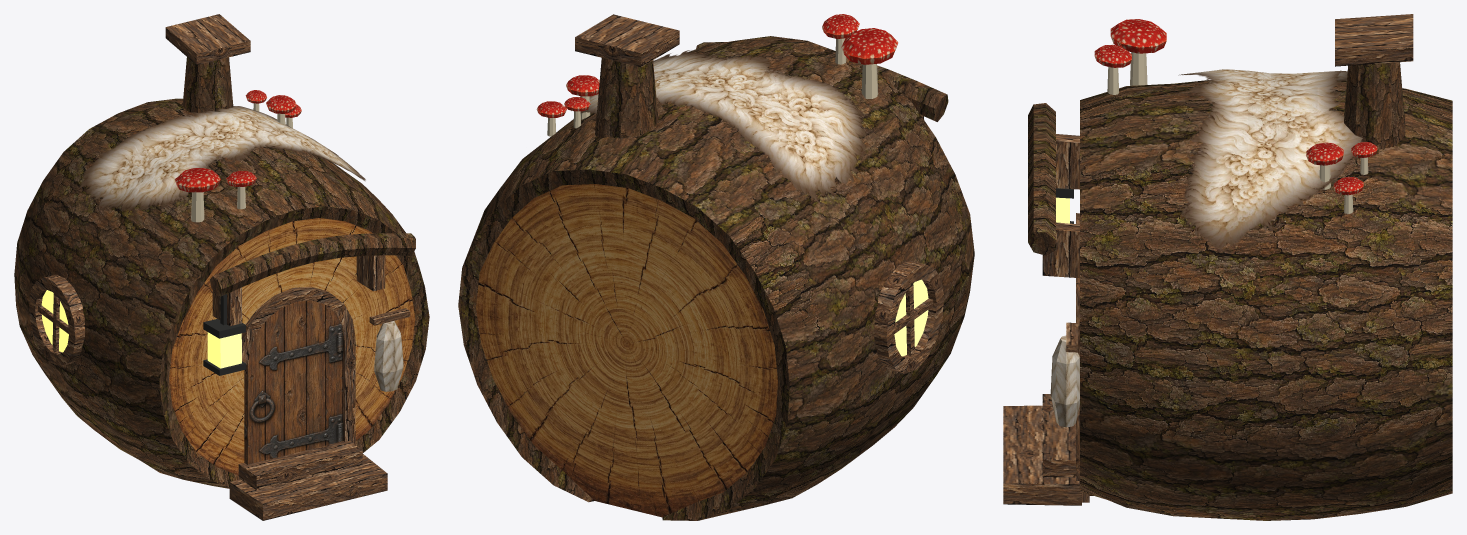
The model's file is house-forest-02.glb.
3 renders of one model, left to right at view 1: azimuth 30°, elevation 25°; view 2: azimuth 150°, elevation 25°; view 3: azimuth 270°, elevation 25°, orthographic. The views are drawn at different scales.
Visible parts, largest first — view 1: log, end_f, door, hide, rim_f, step0, canopy_branch, door_frame, step1, chimney_cap, win_frame_0, chimney (+8 smaller); view 2: end_b, log, hide, rim_b, win_frame_0, chimney, chimney_cap, canopy_branch, amanita0_cap, win_0, win_cross_0, amanita1_cap (+1 smaller); view 3: log, hide, step0, chimney, canopy_branch, chimney_cap, skein, step1, canopy_post_0.52, amanita0_cap, canopy_post_-0.55, amanita2_cap (+3 smaller).
Part boxes in pixels (x1,y1,x2,y2): log: [14, 98, 421, 488]; end_f: [169, 218, 415, 475]; door: [244, 300, 343, 464]; hide: [78, 106, 365, 211]; rim_f: [159, 206, 429, 487]; step0: [229, 454, 387, 520]; canopy_branch: [209, 233, 415, 296]; door_frame: [241, 286, 355, 444]; step1: [238, 441, 362, 490]; chimney_cap: [165, 14, 250, 64]; win_frame_0: [29, 274, 84, 366]; chimney: [182, 57, 233, 112]; end_b: [476, 184, 777, 517]; log: [462, 36, 974, 520]; hide: [580, 50, 866, 203]; rim_b: [458, 169, 789, 520]; win_frame_0: [874, 261, 943, 373]; chimney: [595, 58, 658, 138]; chimney_cap: [575, 14, 679, 67]; canopy_branch: [696, 42, 948, 121]; amanita0_cap: [841, 28, 898, 64]; win_0: [894, 279, 928, 356]; win_cross_0: [894, 284, 933, 355]; amanita1_cap: [822, 14, 859, 38]; log: [1080, 80, 1452, 520]; hide: [1178, 69, 1362, 250]; step0: [1003, 405, 1081, 505]; chimney: [1344, 62, 1405, 149]; canopy_branch: [1028, 103, 1055, 255]; chimney_cap: [1335, 14, 1413, 66]; skein: [1050, 335, 1079, 427]; step1: [1042, 394, 1075, 477]; canopy_post_0.52: [1042, 222, 1079, 278]; amanita0_cap: [1110, 19, 1166, 53]; canopy_post_-0.55: [1056, 134, 1079, 189]; amanita2_cap: [1306, 142, 1343, 165].
Size of the model in its own units: 2.42 by 2.55 by 2.29.
Materials: 10 (7 with a texture image).
